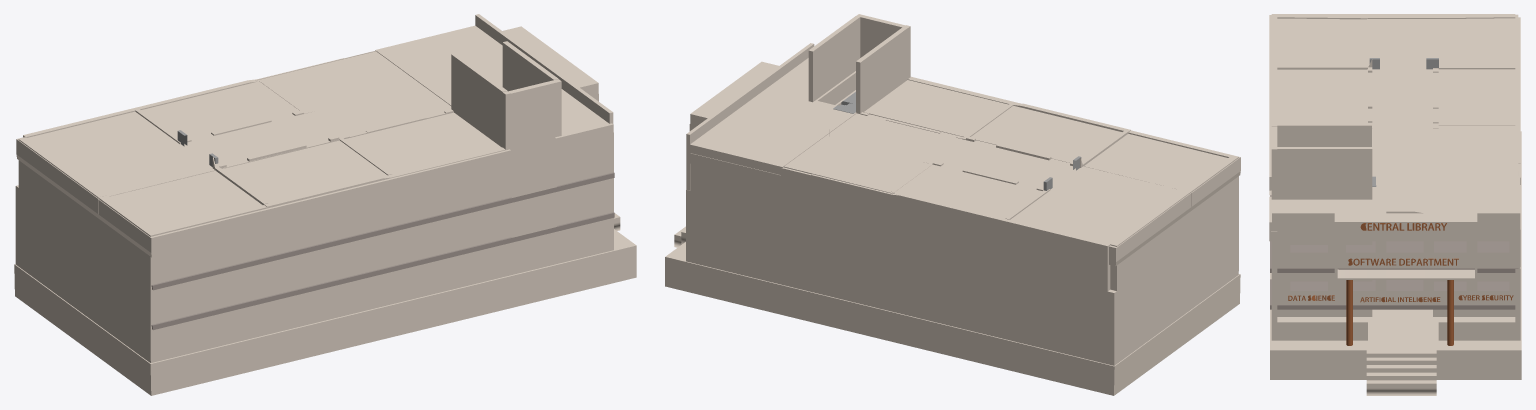
File: MODIFIED BUILDINGS.fbx
3 views of the same model, side by side, from view 1: azimuth 30°, elevation 25°; view 2: azimuth 150°, elevation 25°; view 3: azimuth 270°, elevation 25° (orthographic). The views are drawn at different scales.
Parts seen in each view (by area): view 1: polySurface258; view 2: polySurface258; view 3: polySurface258.
Boxes of the visible parts, <box> form: polySurface258: <box>14,14,636,395</box>; polySurface258: <box>665,14,1240,395</box>; polySurface258: <box>1269,14,1521,395</box>.
Size of the model in its own units: 68.16 by 26.76 by 30.93.
